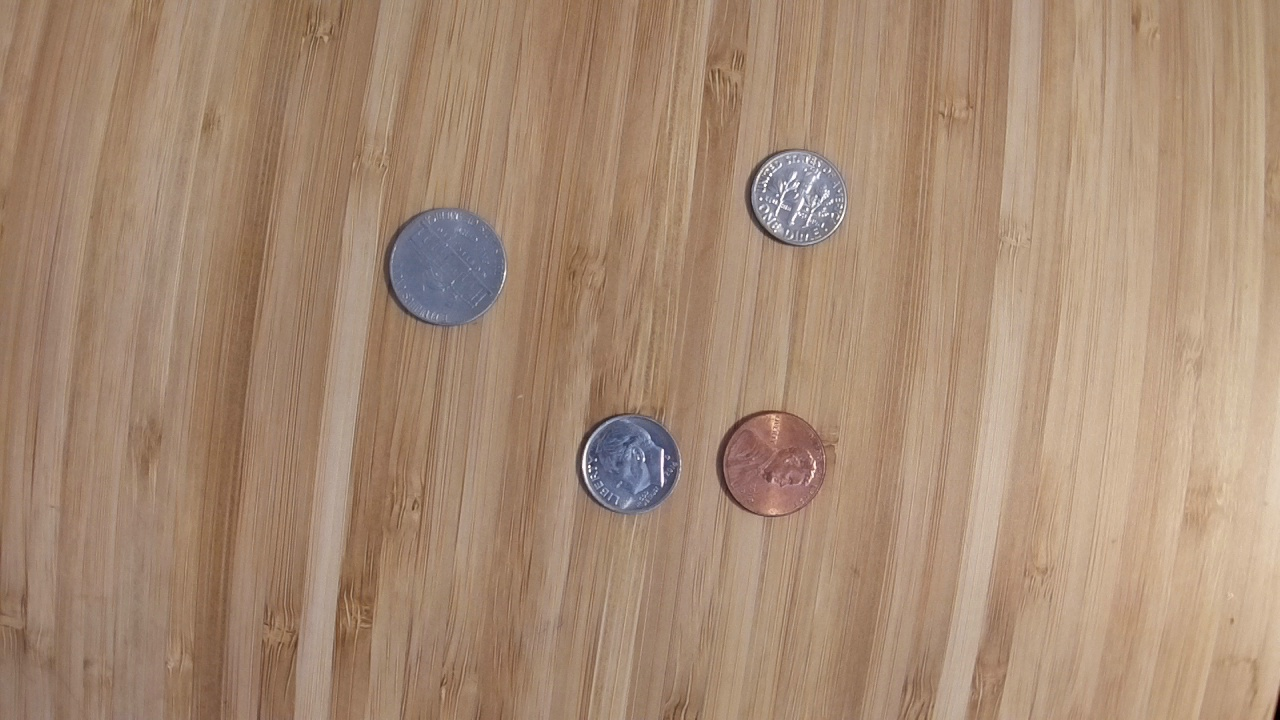dime: (577, 412, 683, 516), (745, 148, 851, 248)
nickel: (384, 206, 508, 326)
penny: (718, 406, 828, 520)
